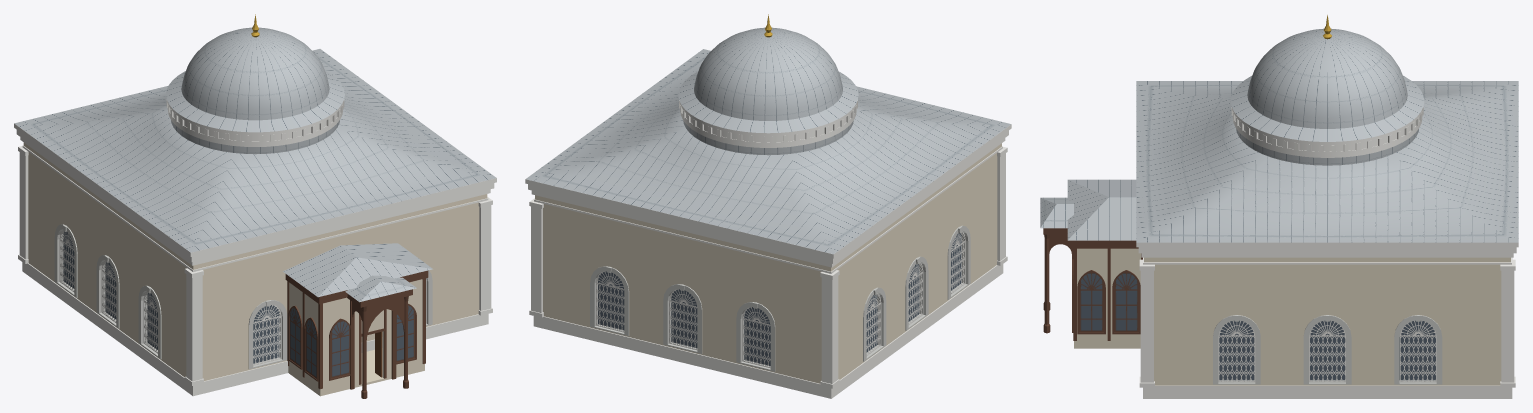
Rendered from orhan-gazi-turbesi_v05.glb.
3 renders of one model, left to right at view 1: azimuth 30°, elevation 25°; view 2: azimuth 150°, elevation 25°; view 3: azimuth 270°, elevation 25°, orthographic. The views are drawn at different scales.
Parts seen in each view (by area): view 1: Kubbe, Govde, Giris_Holu; view 2: Govde, Kubbe; view 3: Kubbe, Govde, Giris_Holu.
Boxes of the visible parts, x1,y1,x2,y2 form: Kubbe: (14, 14, 496, 252); Govde: (14, 55, 496, 396); Giris_Holu: (283, 243, 432, 398); Govde: (525, 124, 1011, 398); Kubbe: (526, 14, 1010, 254); Kubbe: (1136, 15, 1518, 242); Govde: (1136, 242, 1518, 398); Giris_Holu: (1040, 179, 1142, 348).
Size of the model in its own units: 17.5 by 15.5 by 21.9.
Materials: 12 (4 with a texture image).
